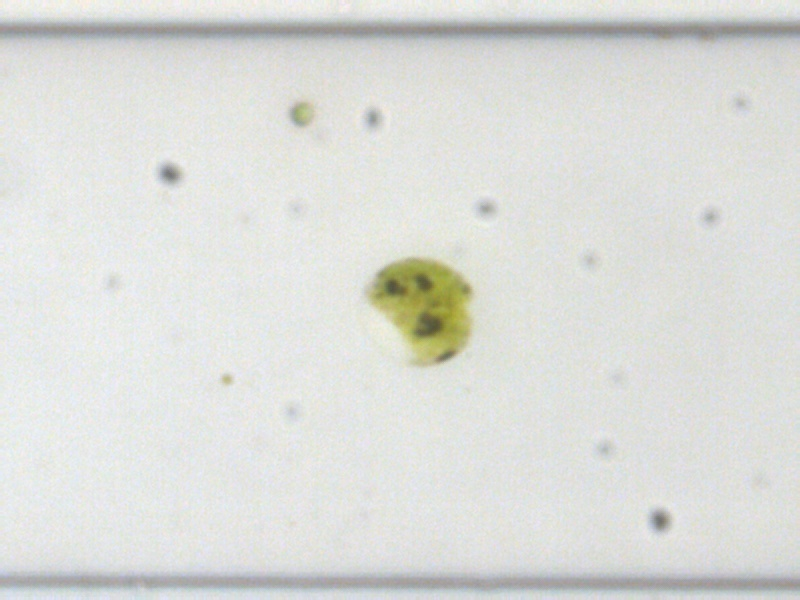Chlorella: (290, 100, 313, 125), (218, 370, 234, 386)
Haematococcus: (360, 252, 476, 365)
